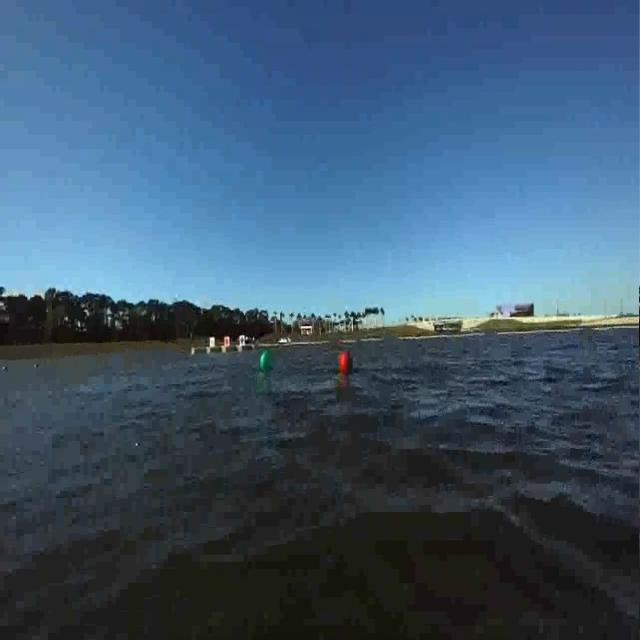green-buoy: (250, 340, 275, 382)
red-buoy: (334, 342, 356, 382)
